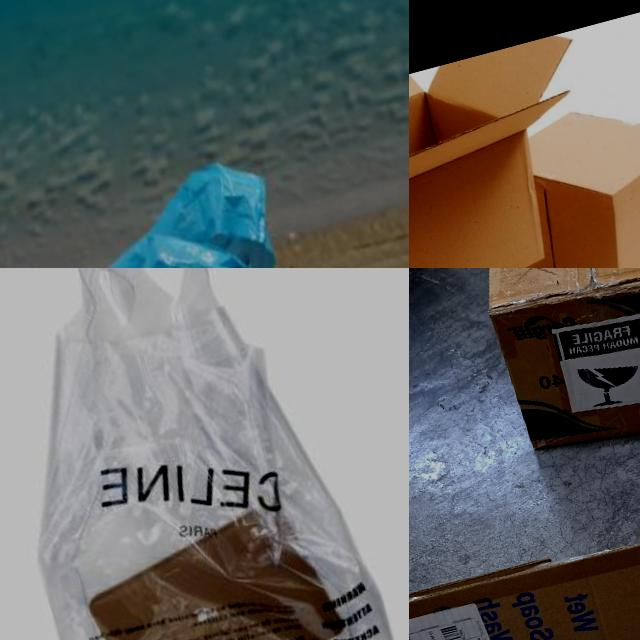garrafa plástica: (409, 30, 635, 268), (462, 80, 640, 268)
papelão: (468, 268, 640, 467), (409, 504, 640, 640)
sacola plástica: (0, 268, 409, 640), (0, 150, 329, 268)
